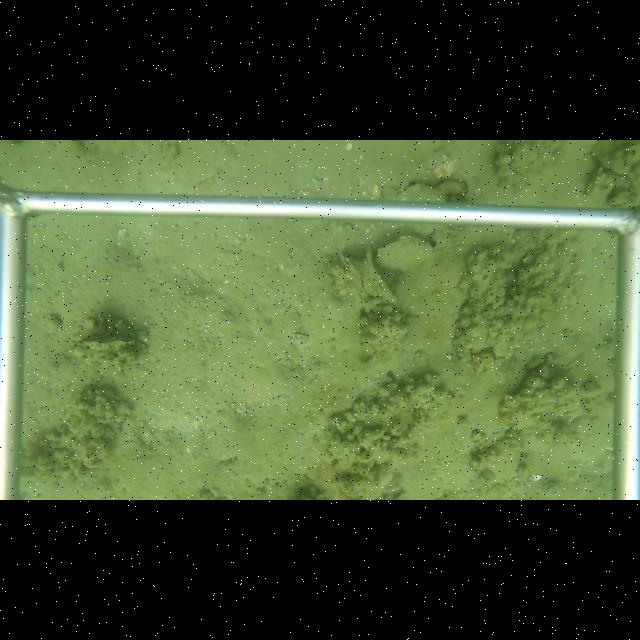Oyster-Closed: (377, 233, 435, 276), (337, 246, 381, 302), (364, 246, 399, 308), (71, 334, 140, 364), (588, 144, 632, 179)
